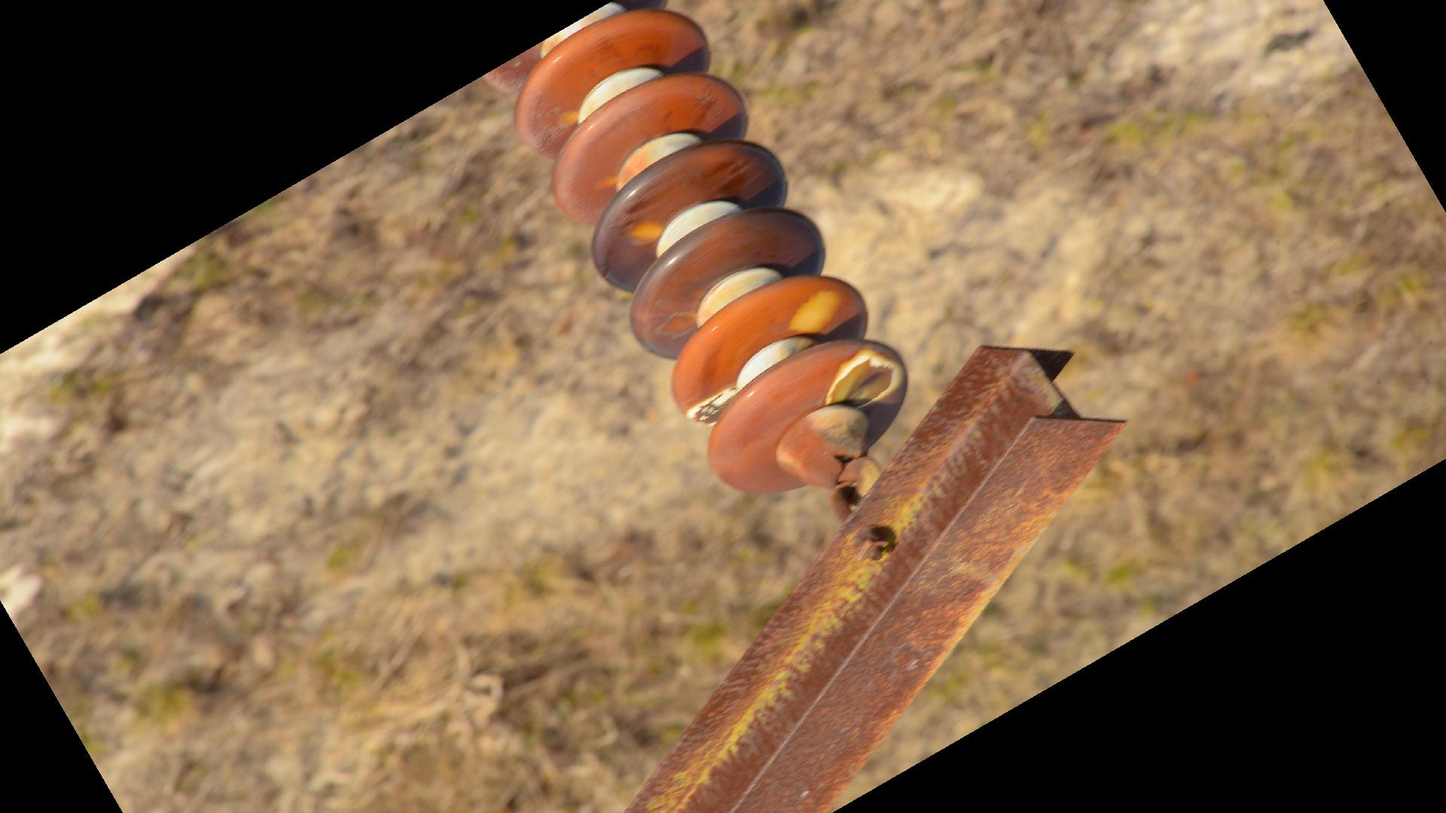insulator: (503, 5, 915, 504)
insulator_flashover: (821, 349, 905, 411), (784, 286, 845, 337), (683, 383, 741, 430), (622, 215, 667, 248)
